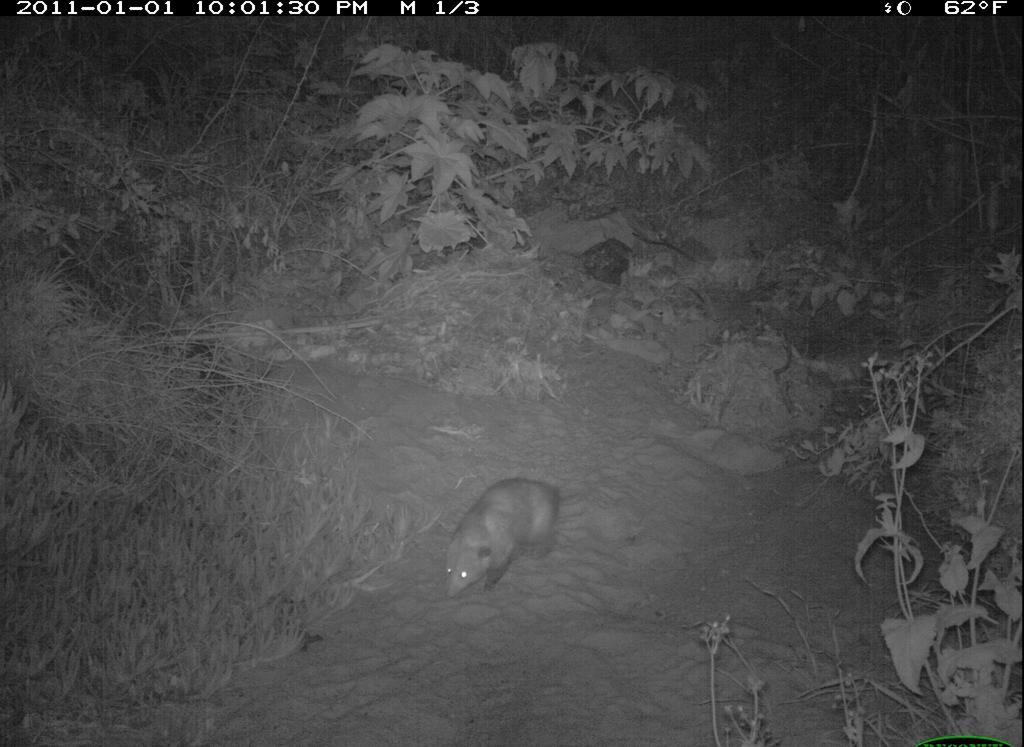opossum: (442, 472, 562, 614)
